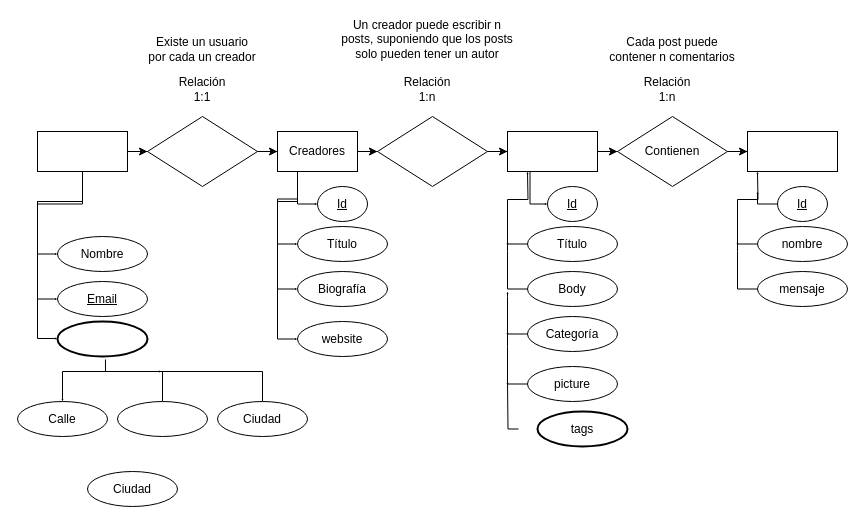
Image size: 865x524. Some labels were removed from this diagram. Here are the shapes that lost their labels. From the top down, the centre of each, then its label:
At (82,151): "Usuarios".
At (202,151): "Pruede ser".
At (432,151): "Escriben".
At (552,151): "Posts".
At (792,151): "Comentarios".
At (102,338): "Dirección".
At (162,418): "Número".
